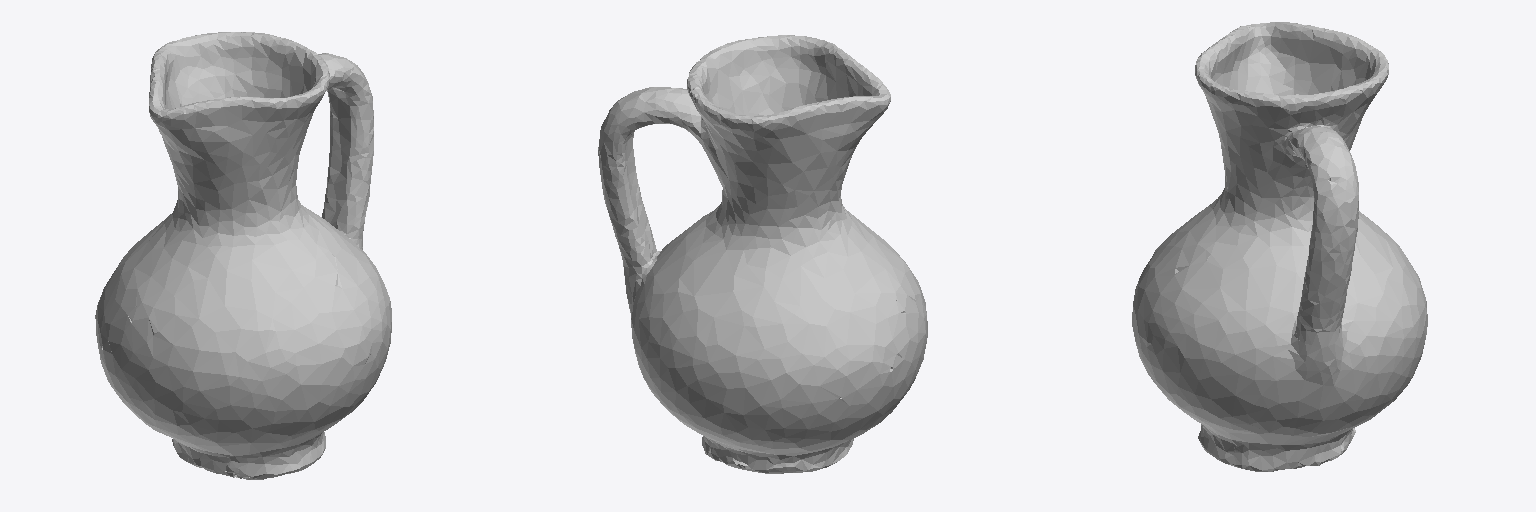
The model's file is nrcc_vase2.obj.
3 renders of one model, left to right at view 1: azimuth 30°, elevation 25°; view 2: azimuth 150°, elevation 25°; view 3: azimuth 270°, elevation 25°, orthographic.
Size of the model in its own units: 1.52 by 2 by 1.4.